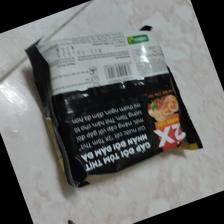3mien: (22, 25, 204, 188)
